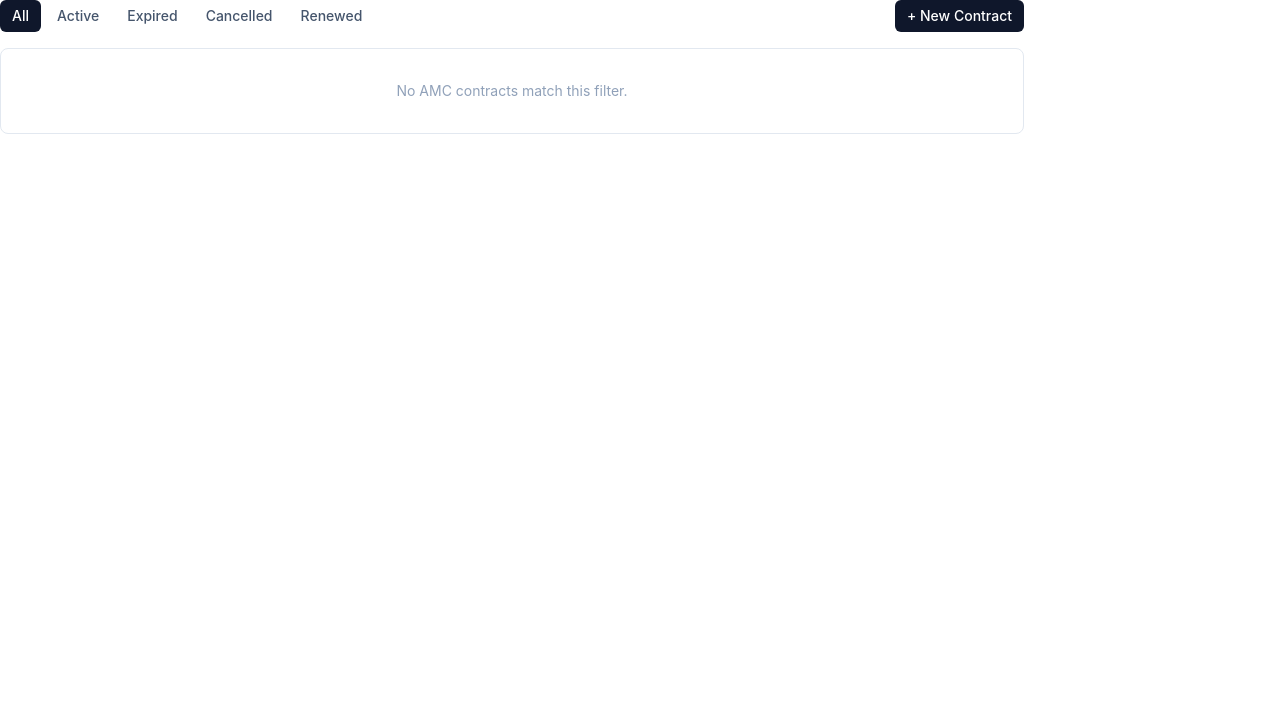
ContractsPage - create form › disables submit once the estimate exceeds the 60-visit safety cap
Expected: the text "No AMC contracts match this filter." is shown, [0, 48, 1024, 134]
Click the button "+ New Contract" at (959, 16), box [895, 0, 1024, 32]
(page scrolled)
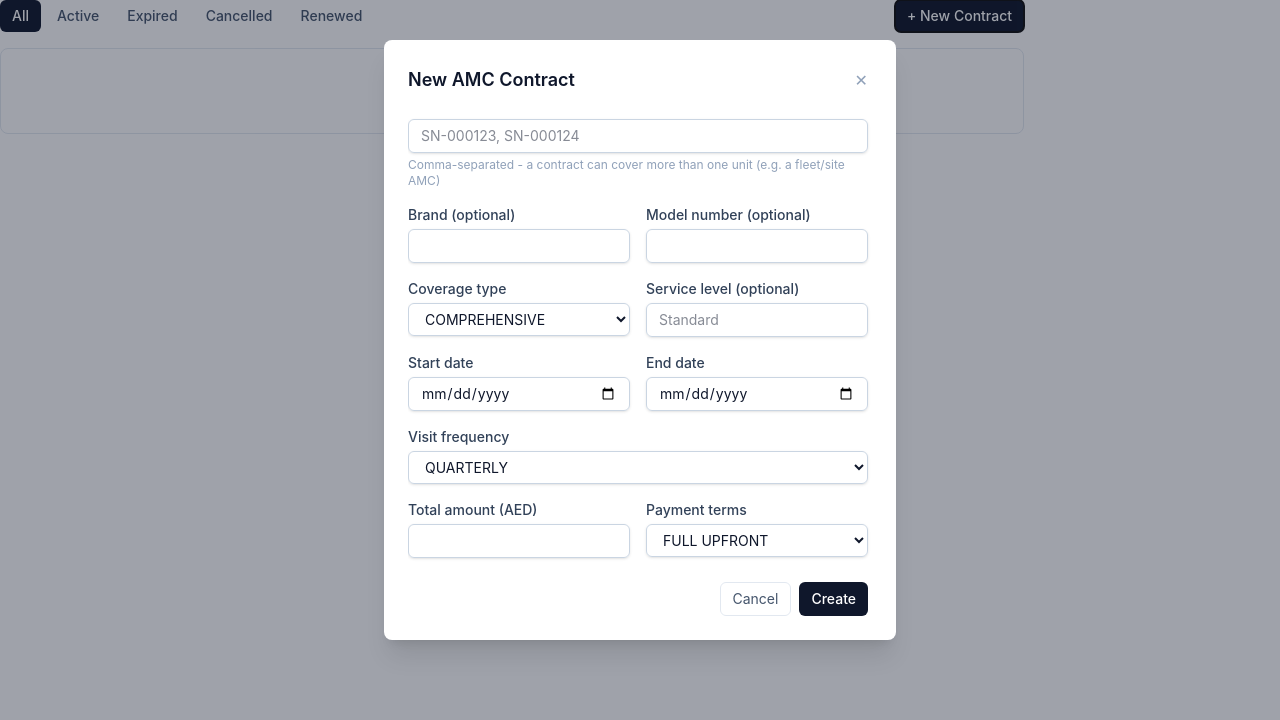
Select "MONTHLY" in the dropdown labelled "Visit frequency" at (638, 468), box [408, 451, 868, 484]
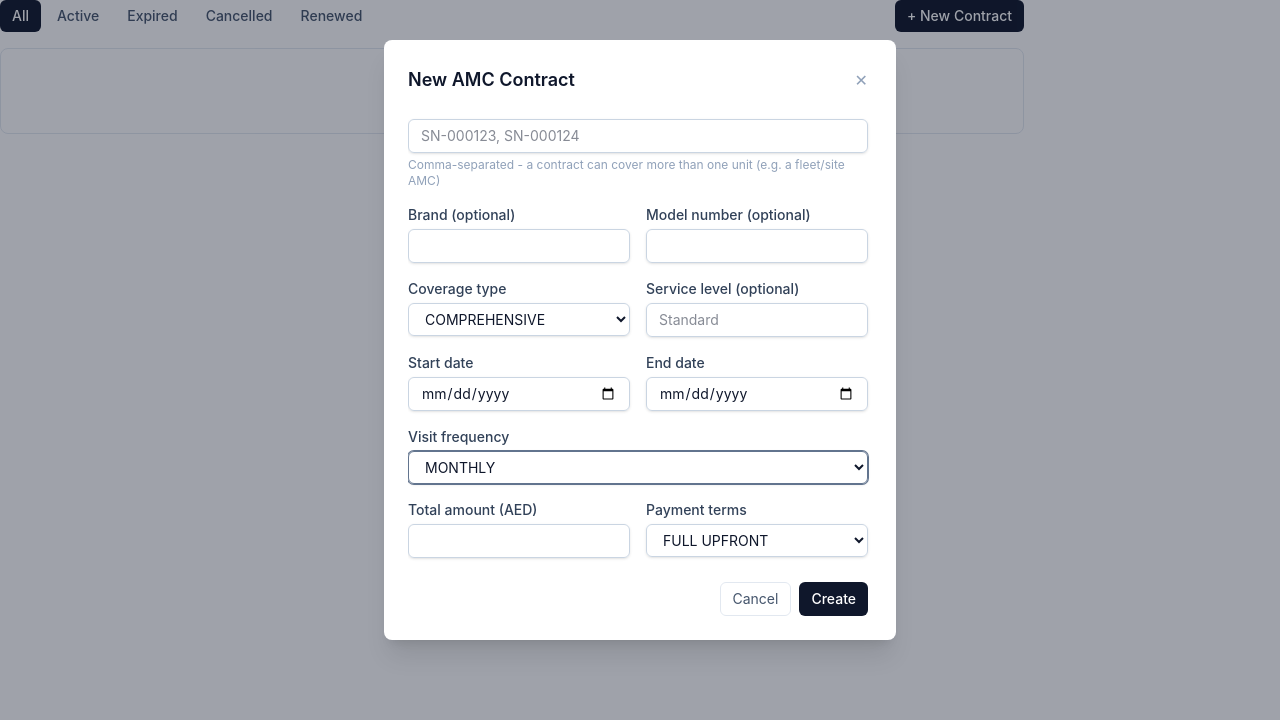
Type "2020-01-01" into the date field labelled "Start date" at (519, 394), box [408, 377, 630, 411]
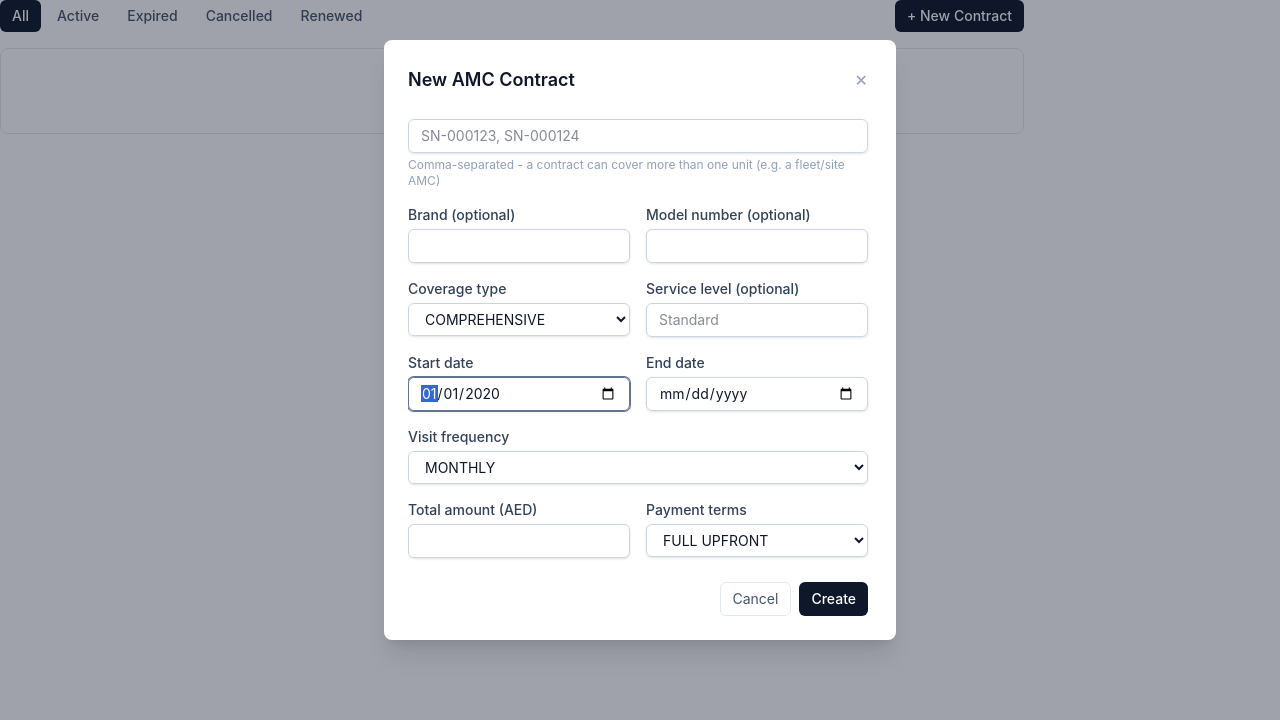
Type "2027-01-01" into the date field labelled "End date" at (757, 394), box [646, 377, 868, 411]
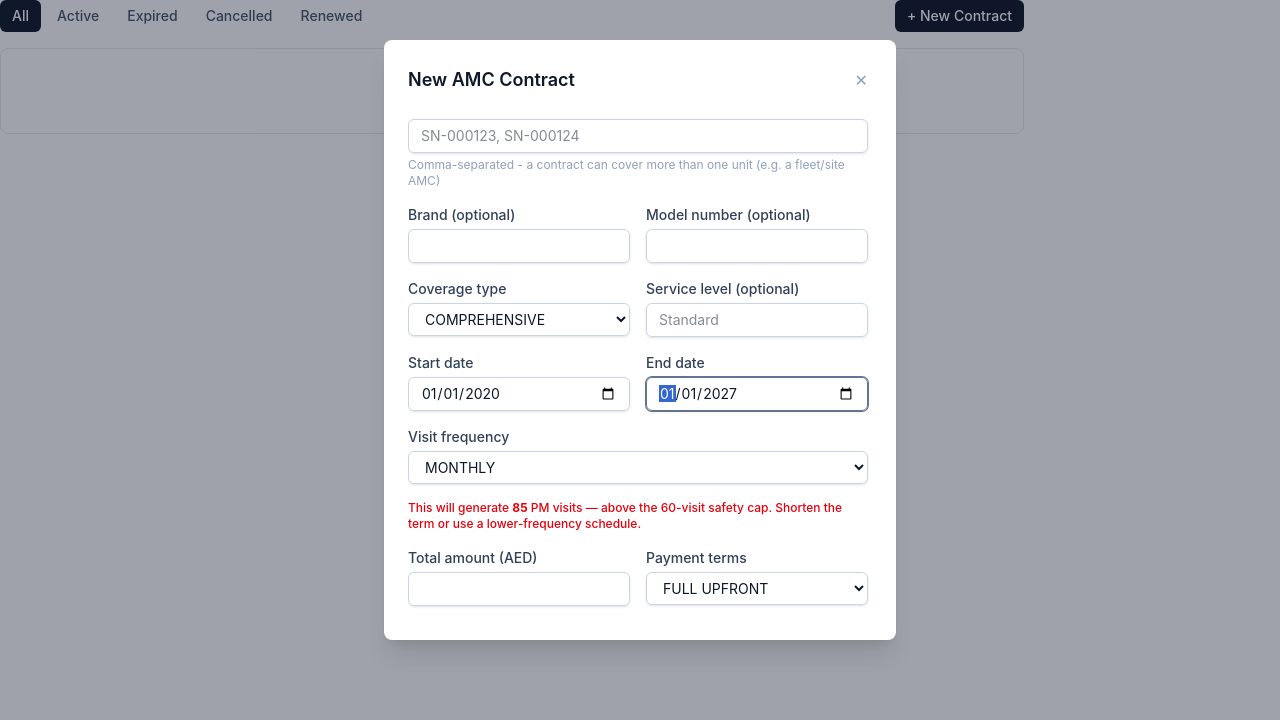
Result: the text "above the 60-visit safety cap" is shown at [408, 500, 842, 531]
